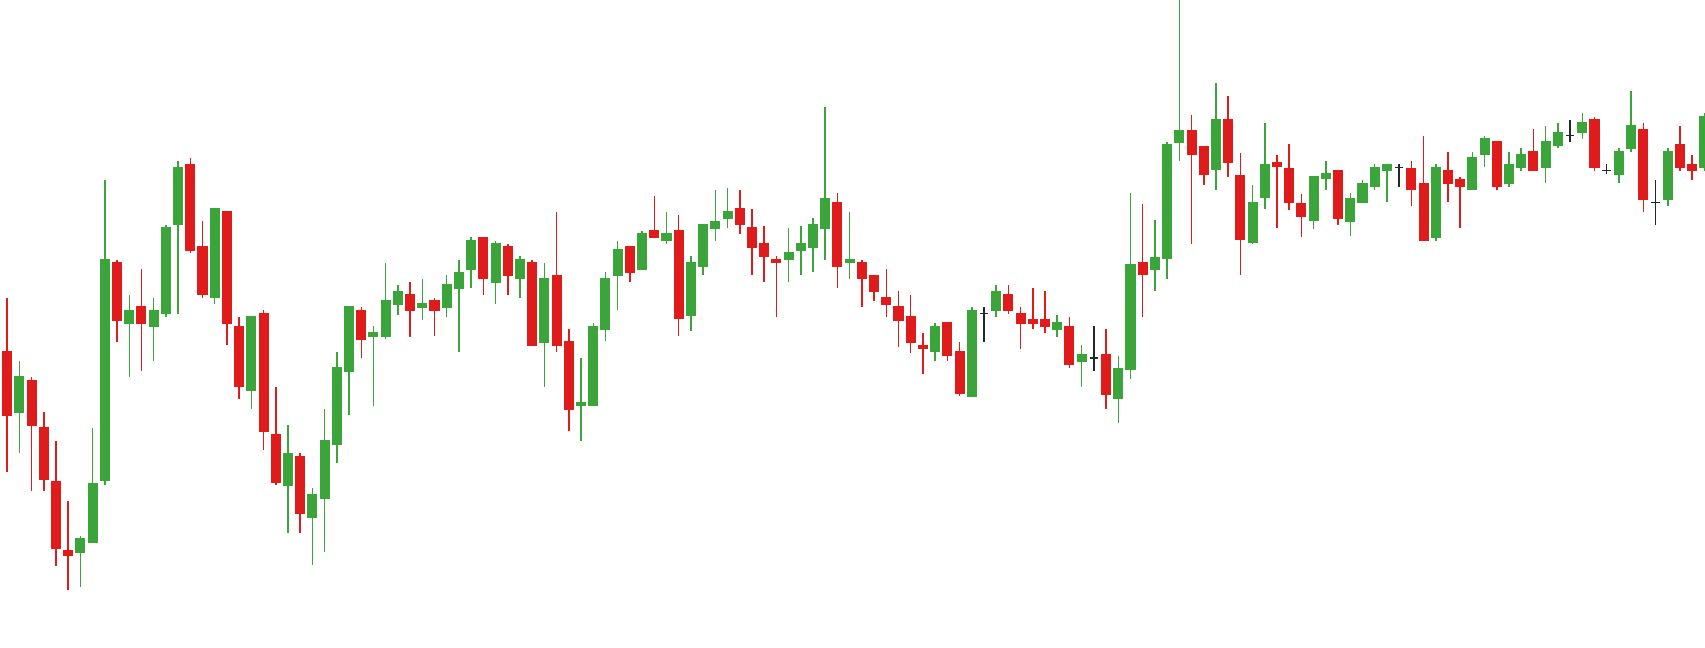buy: (368, 292, 603, 437)
sell: (707, 104, 834, 266), (98, 153, 197, 310)
